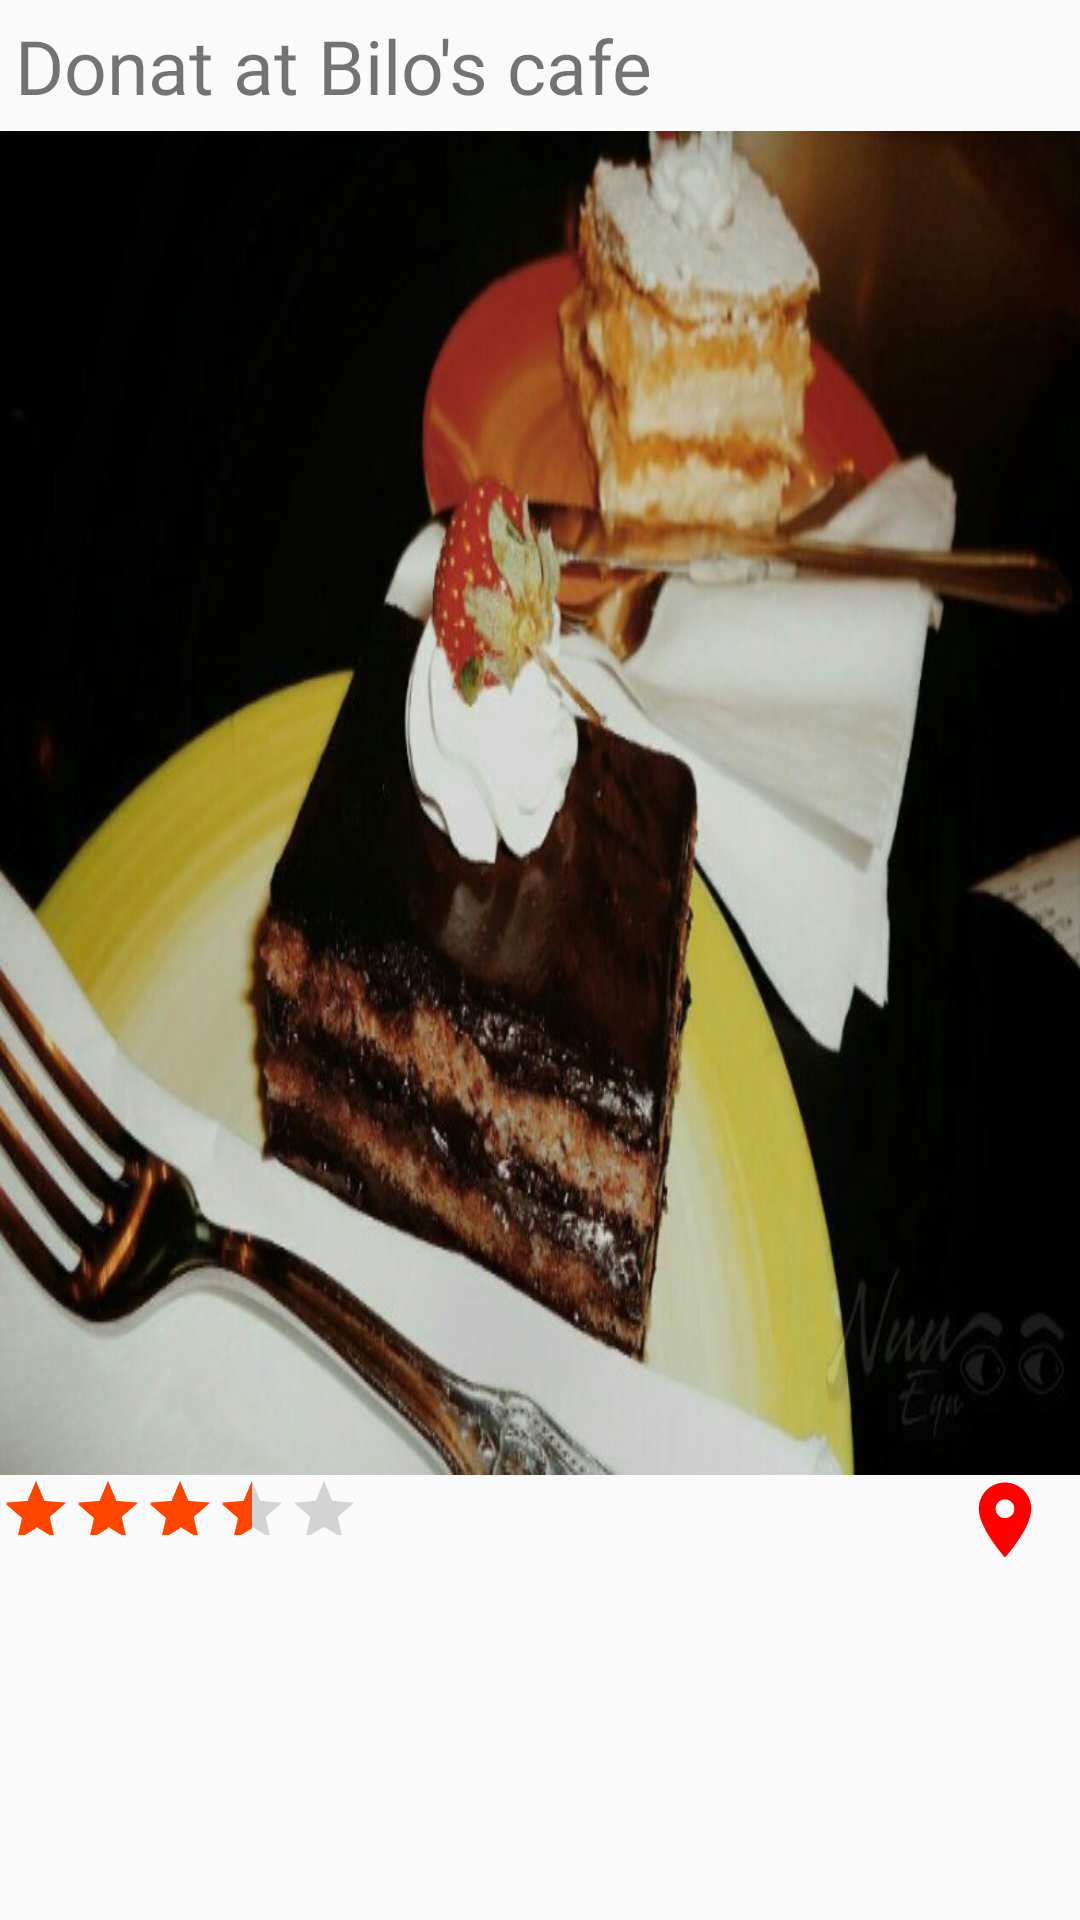

Named icons in this screenshot (1080w x 1920h) and their bounding boxes, (x1, y1, x2, y2):
location on: (978, 1482, 1032, 1557)
